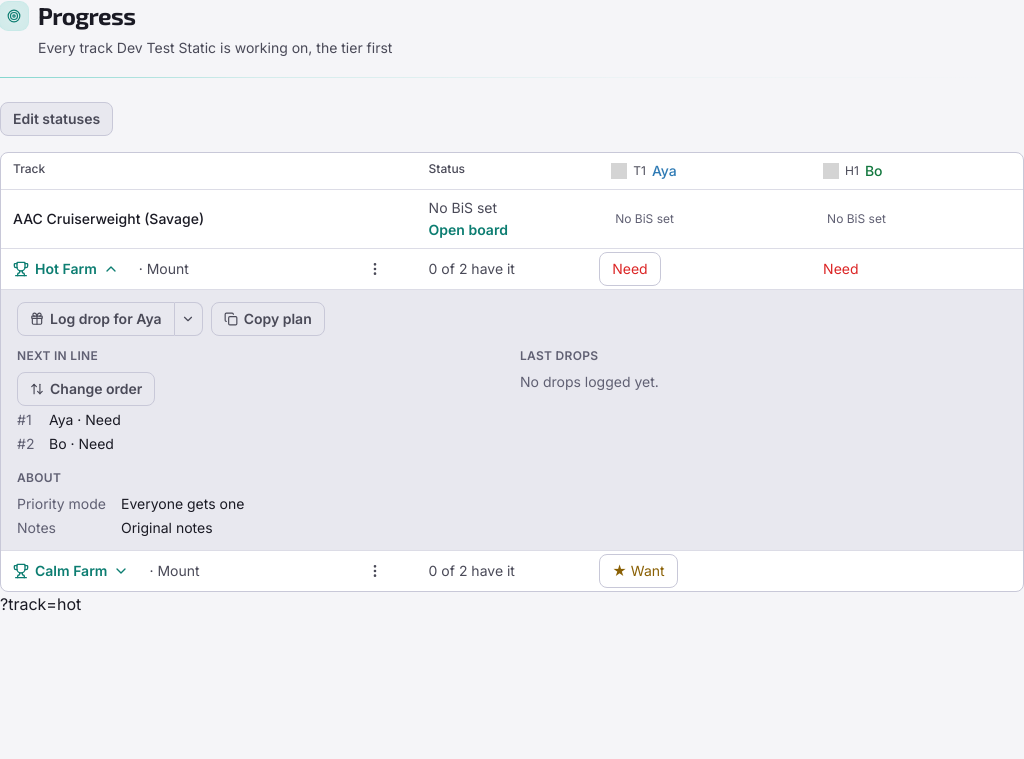
Scenario: the menu's Edit (vet M-1) › enters the block on a row that is already open
The image size is (1024, 759).
Expected: the row with test id "progress-expansion" is shown, left=1, top=290, right=1023, bottom=550
Click the button named "Actions for Hot Farm" at [375, 269], box left=361, top=255, right=389, bottom=283
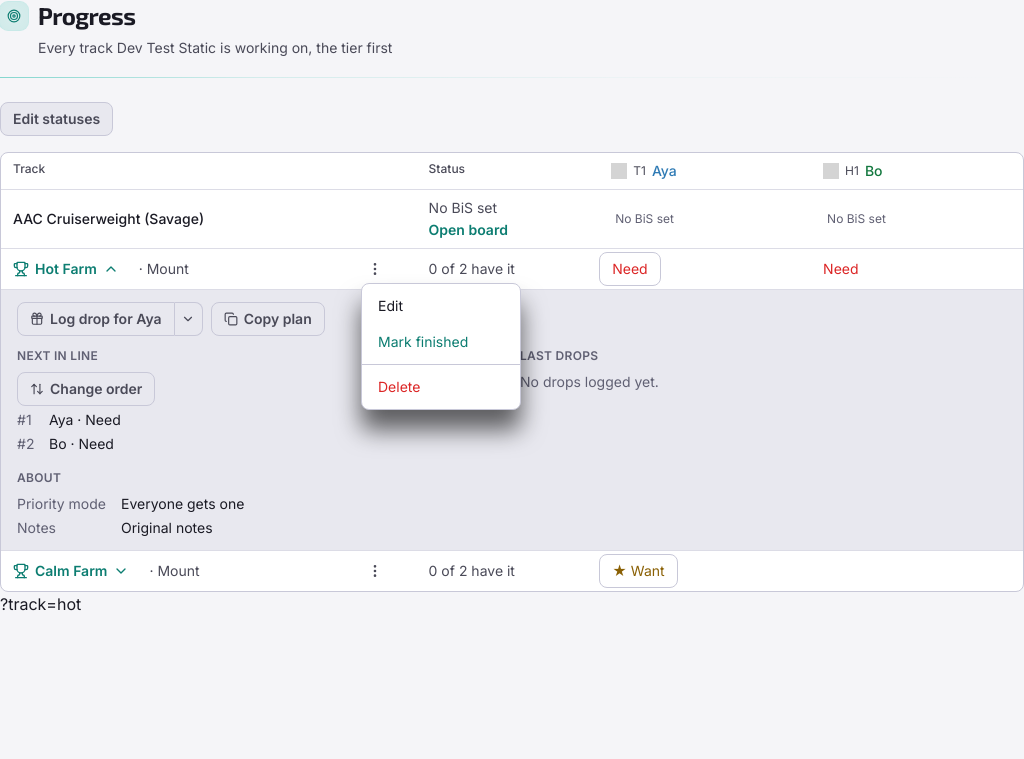
Click the menu item "Edit" at [441, 306], box left=362, top=288, right=520, bottom=324
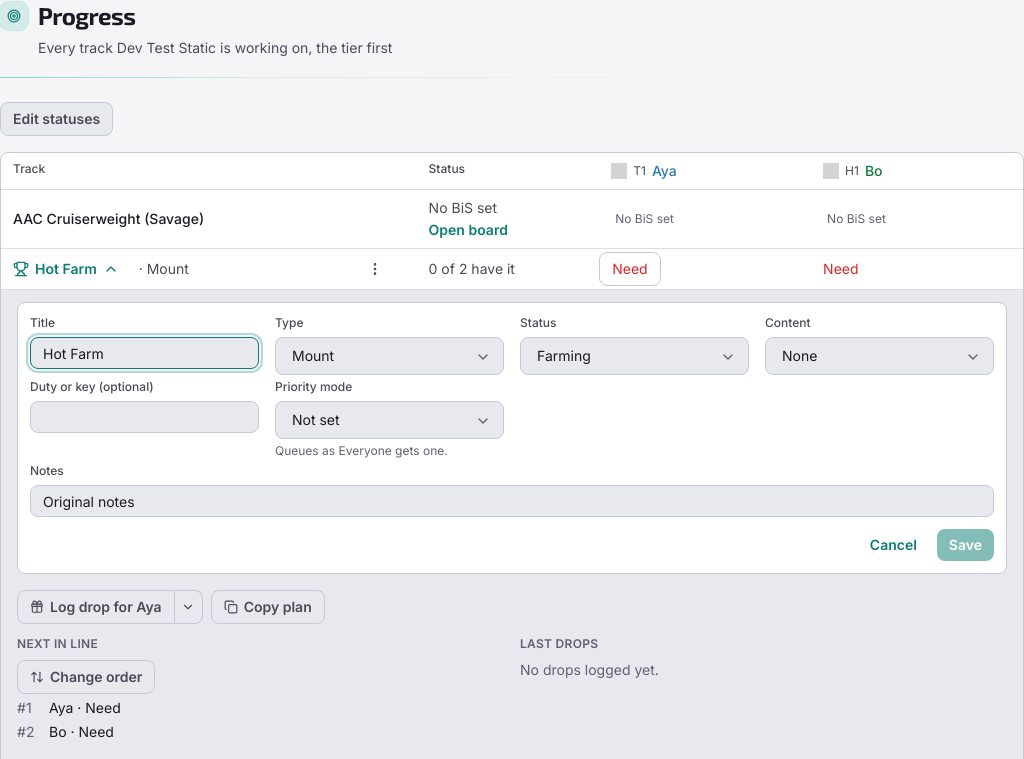
Now the number of forms is 1, box left=17, top=302, right=1007, bottom=574
